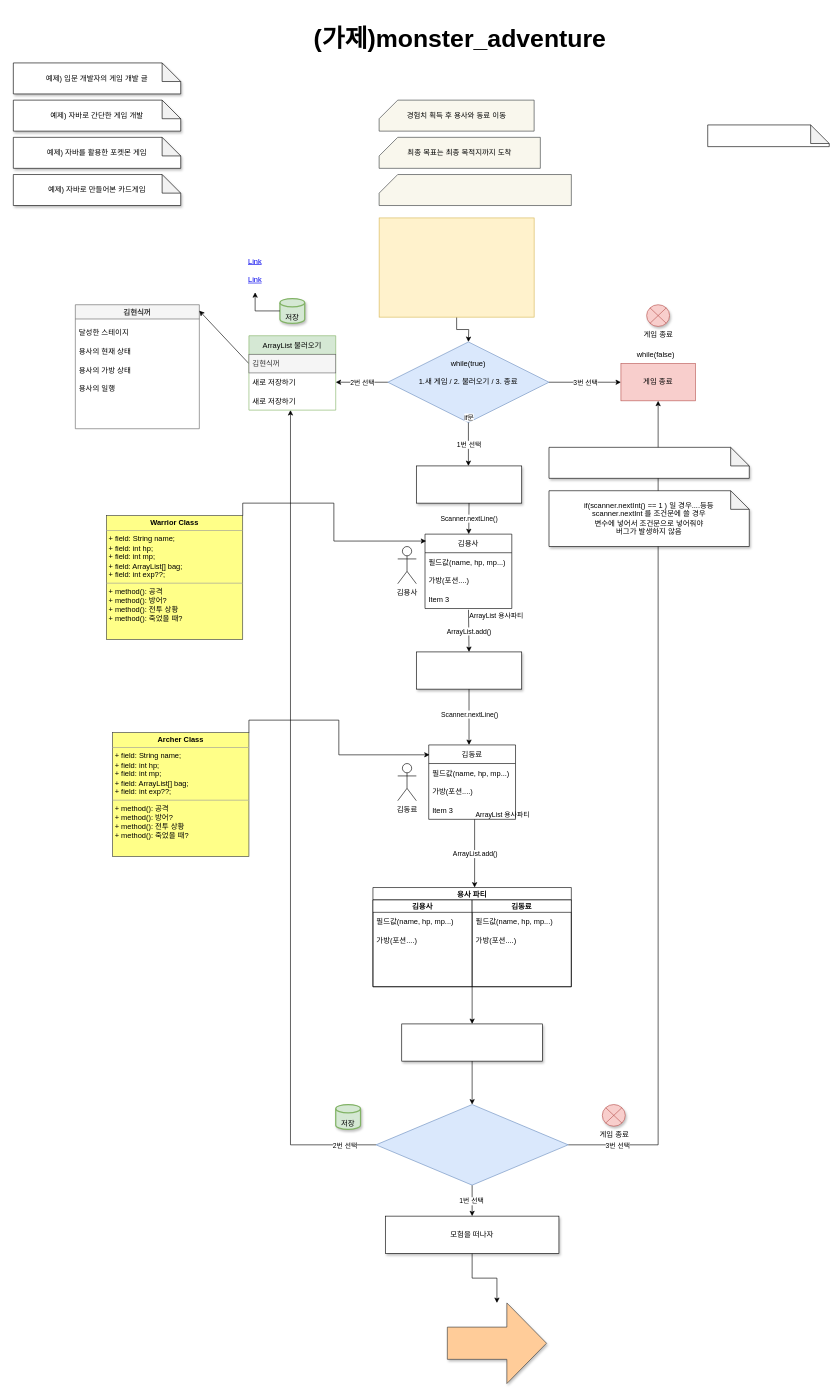
Some shapes in this 840 by 1399 pixel diagram are drawn without their labels. The shapes that lost their labels are listed below. From the top down, each one's centre as x and y in pixels, then its label:
point 768,135: 키보드 프레임 구현?
point 475,190: 맵을 돌아다니며 몬스터를 마주치는 맵 방식
point 456,267: 게임 스타트 화면 턴제 게임 / 맵 방식 / 텍스트 어드벤처 슬라임 멥에 진입하기 전까지의 메인 선택지 게임의 스토리라인 구현 필요
point 649,463: 선택지에 if문 or switch 문?
point 469,485: 용사의 이름을 정해주세요
point 469,671: 동료의 이름을 정해주세요
point 472,1043: 용사 파티가 만들어졌다
point 471,1144: 이제 무엇을 할까? 1. 모험을 떠난다 / 2. 저장한다 / 3. 종료
point 497,1344: 맵으로 진입
